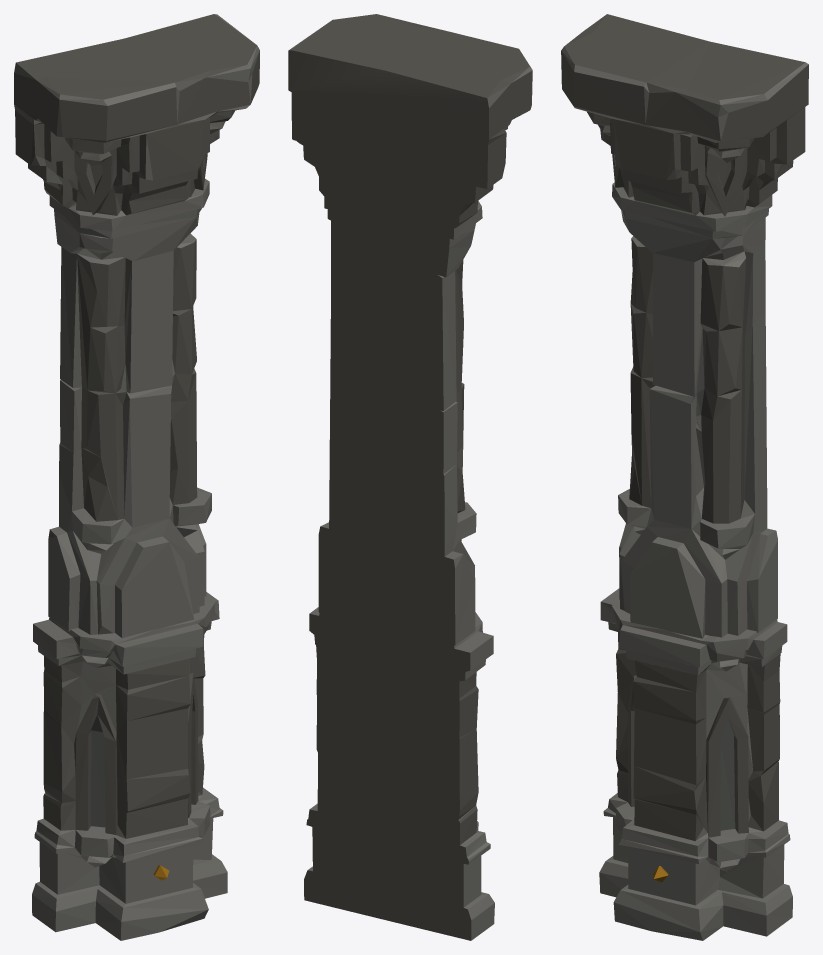
File: MDungeon_PillarSmall_FullHalf.FBX
The picture shows the model from 3 angles, left to right: view 1: azimuth 30°, elevation 25°; view 2: azimuth 150°, elevation 25°; view 3: azimuth 330°, elevation 25°; orthographic projection.
Parts seen in each view (by area): view 1: MDungeon_PillarSmall_FullHalf_LOD0; view 2: MDungeon_PillarSmall_FullHalf_LOD0; view 3: MDungeon_PillarSmall_FullHalf_LOD0.
Boxes of the visible parts, <box> form: MDungeon_PillarSmall_FullHalf_LOD0: <box>14,14,259,940</box>; MDungeon_PillarSmall_FullHalf_LOD0: <box>288,14,532,940</box>; MDungeon_PillarSmall_FullHalf_LOD0: <box>561,14,808,940</box>.
Size of what is drawn, in the model's own units: 3 by 12.05 by 1.59.
